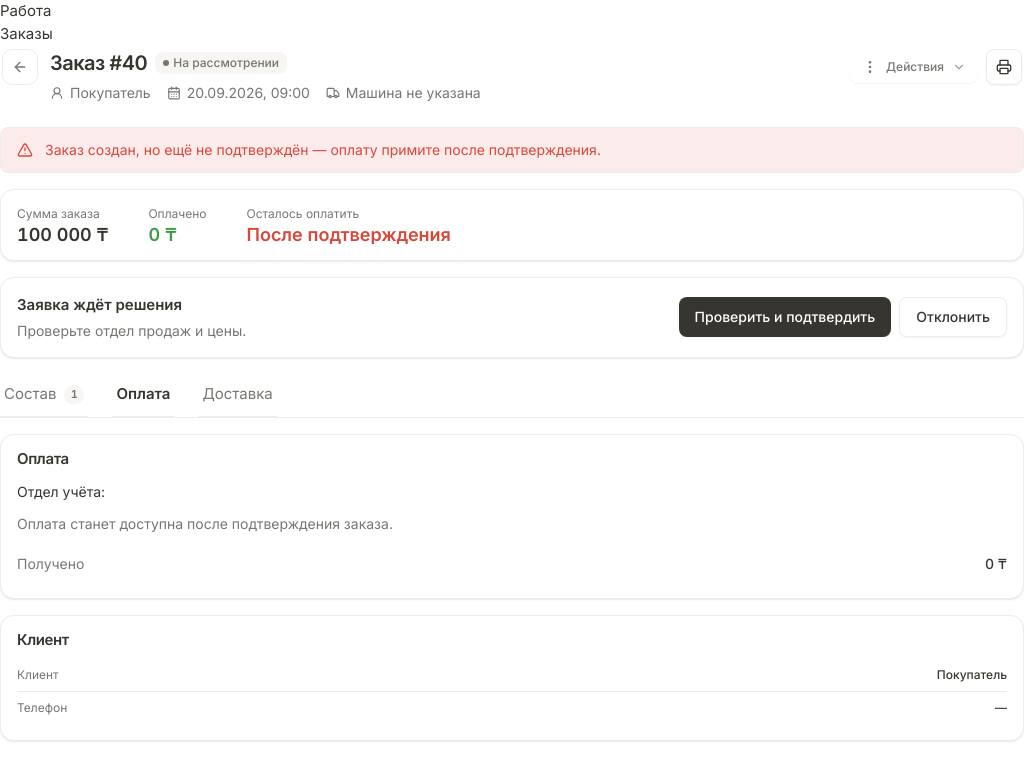
Test: opens the confirmation window without the page notice about the postponed payment
This screenshot has width=1024, height=768.
Expected: the heading "Заказ #40" is shown, [50, 49, 147, 77]
Expected: the text "ещё не подтверждён — оплату примите после подтверждения" is shown, [45, 141, 601, 158]
Окно подтверждения показывает только свои ошибки: пояснение об оплате — не отказ подтверждения.
What coordinates should you click on to do the following:
click the button "Проверить и подтвердить"
I would click on:
 (785, 317)
Its box is [679, 297, 891, 337].
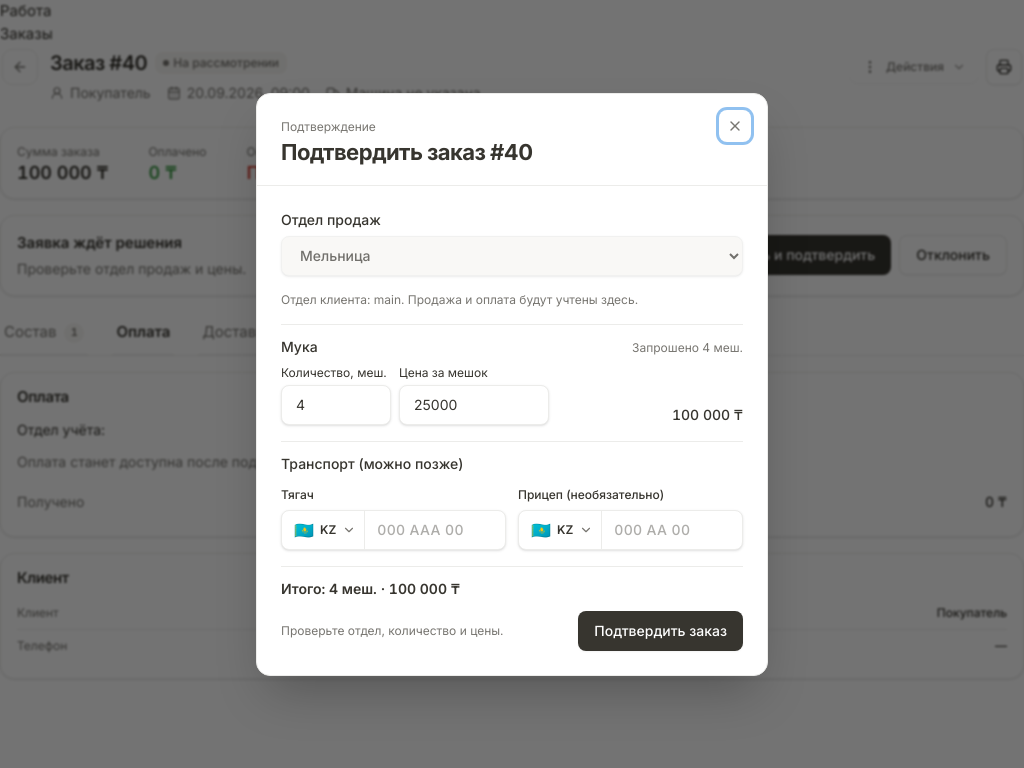
Result: the text "ещё не подтверждён — оплату примите после подтверждения" is gone
